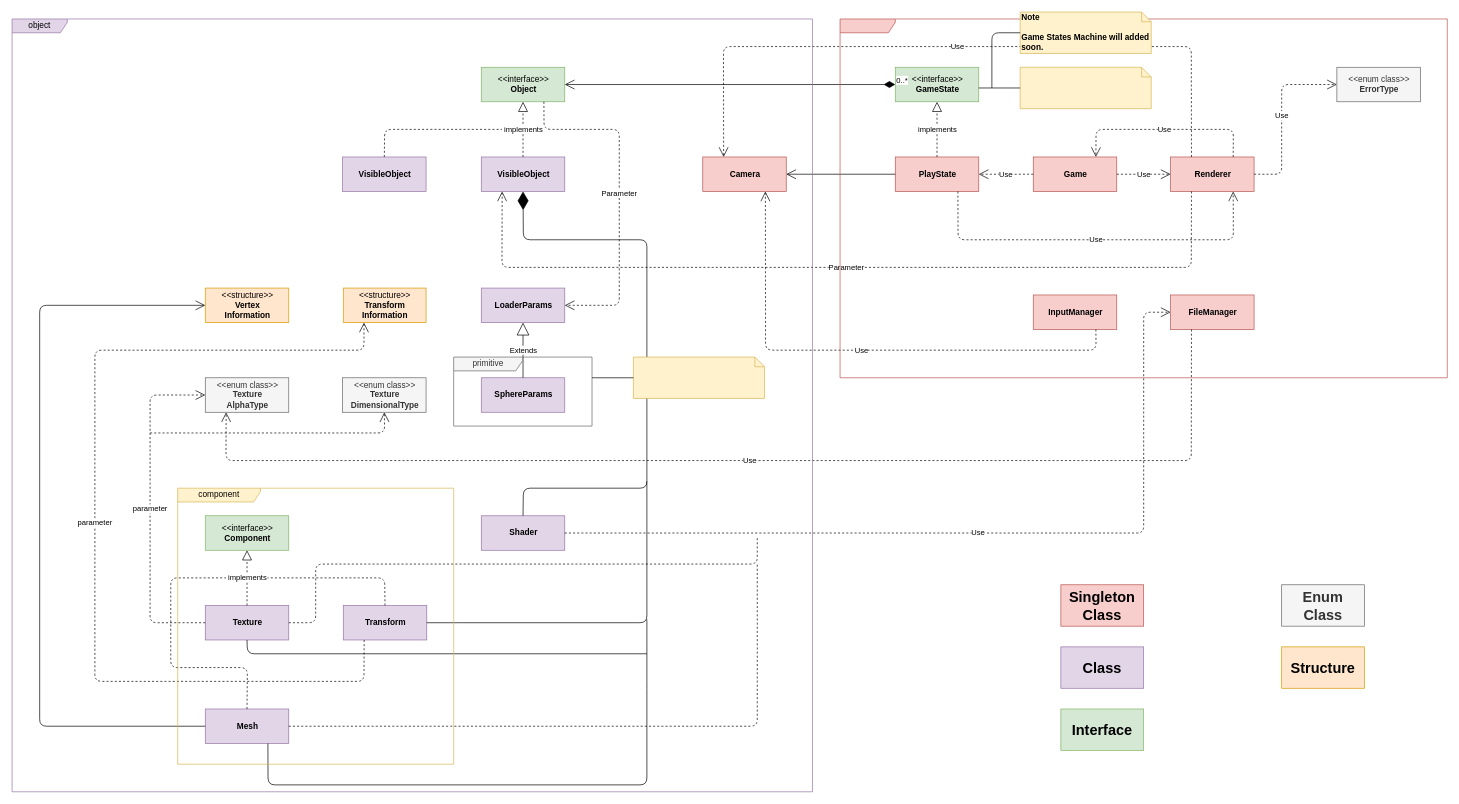
Some shapes in this 1459 by 804 pixel diagram are drawn without their labels. The box of each missing label's shape, as (x1, y1, x2, y2) in pixels:
Note More Game States(Menu State or Pause State) will added soon.: (1019, 67, 1151, 109)
Note More Primitive Params will added soon.: (633, 356, 765, 398)
system: (839, 18, 1447, 378)
